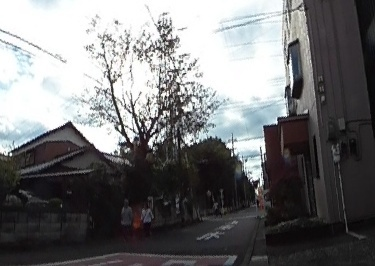person: (119, 196, 133, 238), (140, 203, 153, 232)
